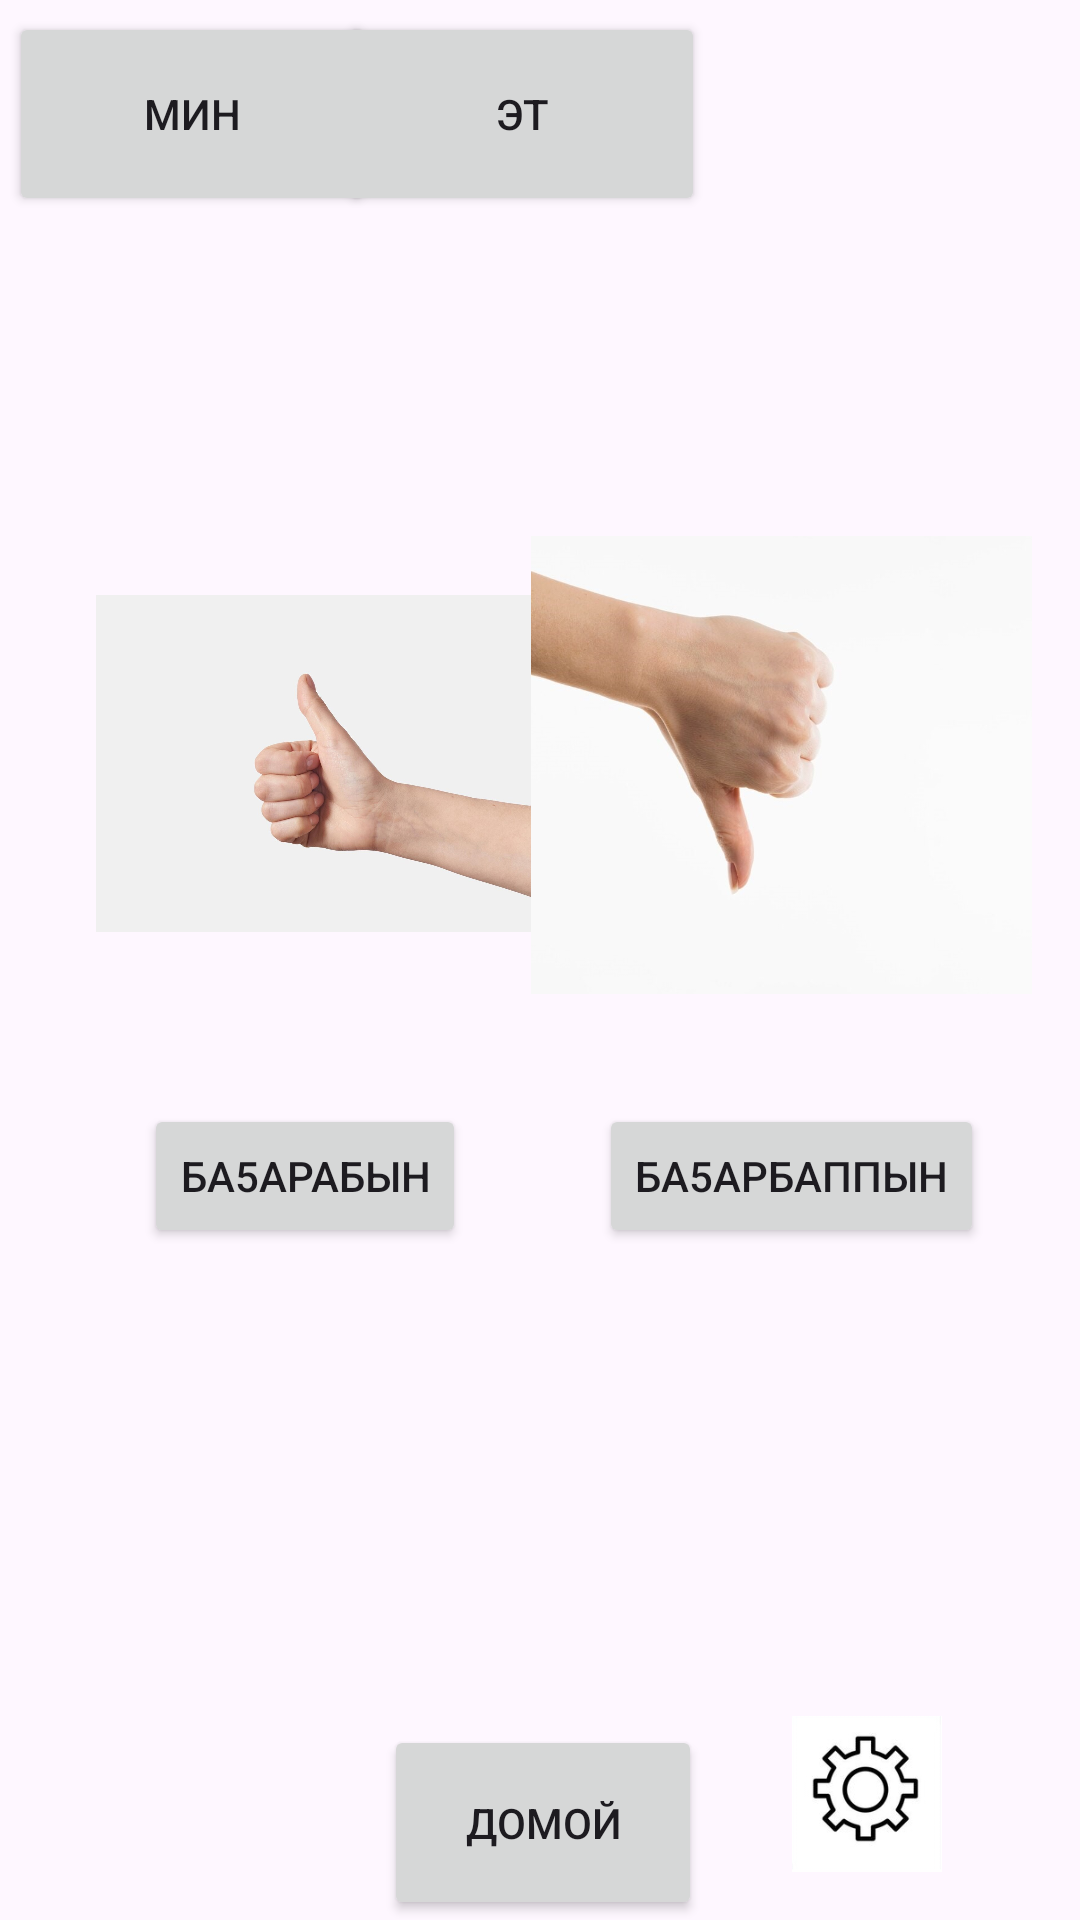

Where to tap for icons on this 1080 × 1920 app screen, as (x=x, y=y):
settings: (x=865, y=1789)
wantnt: (x=682, y=732)
